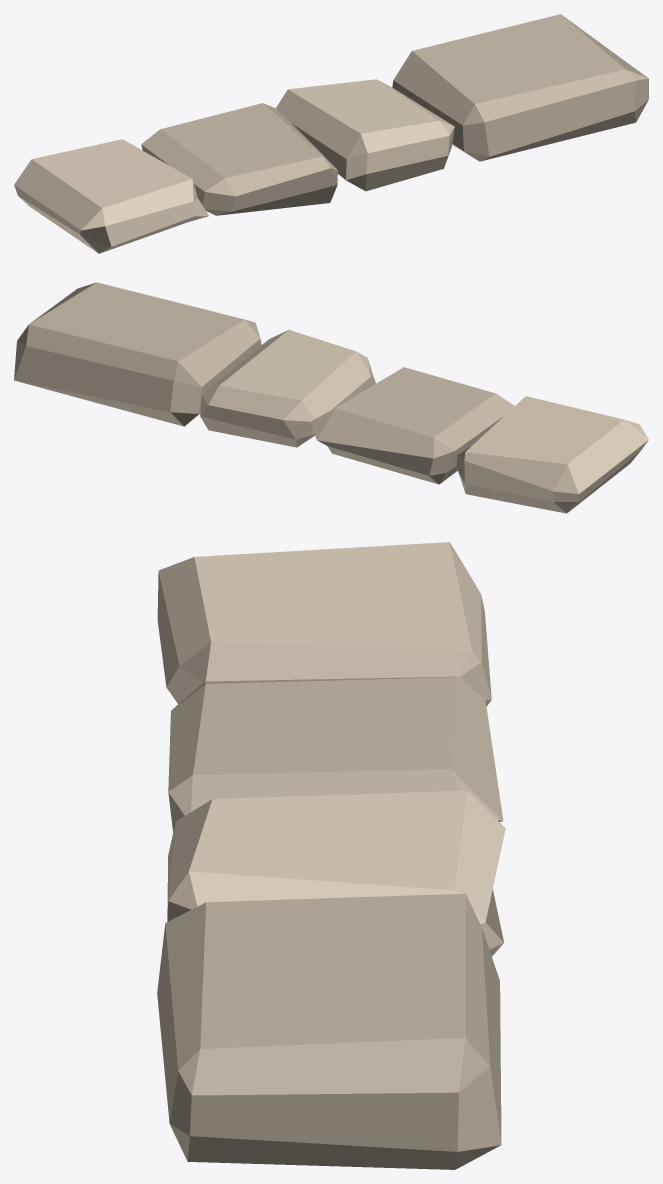
Rendered from cliff_cap.glb.
The picture shows the model from 3 angles, top to bottom: view 1: azimuth 30°, elevation 25°; view 2: azimuth 150°, elevation 25°; view 3: azimuth 270°, elevation 25°; orthographic projection. The views are drawn at different scales.
Visible parts, largest first — view 1: cliff_cap; view 2: cliff_cap; view 3: cliff_cap.
Boxes of the visible parts, x1,y1,x2,y2 form: cliff_cap: (14,14,648,253); cliff_cap: (14,282,648,513); cliff_cap: (157,542,505,1169).
Size of the model in its own units: 2.01 by 0.2192 by 0.5339.
